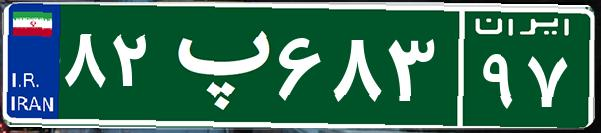2: (110, 28, 158, 105)
3: (385, 28, 445, 110)
6: (273, 28, 330, 110)
7: (525, 38, 570, 115)
8: (330, 28, 385, 110), (57, 26, 110, 107)
9: (475, 38, 525, 113)
پ: (158, 15, 273, 115)
